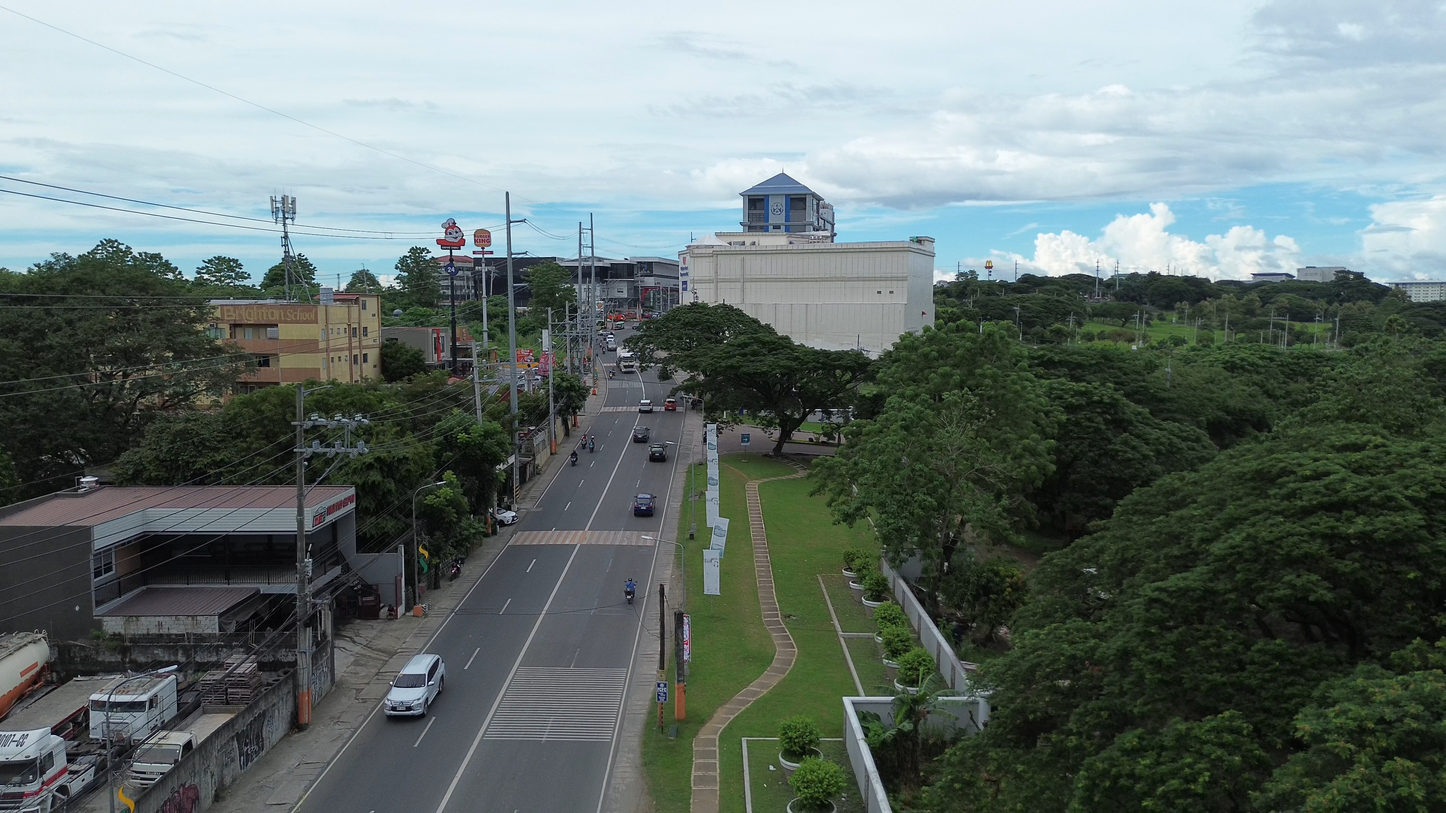car: (384, 653, 445, 716), (492, 507, 518, 525), (633, 493, 654, 515), (649, 444, 667, 461), (632, 426, 650, 442), (638, 399, 653, 413)
motorcycle: (449, 559, 461, 580), (625, 587, 635, 605), (570, 451, 578, 466)
vehicle: (0, 729, 99, 813), (89, 674, 177, 743), (0, 632, 50, 717), (127, 731, 195, 789), (618, 348, 638, 373), (664, 398, 677, 411)
